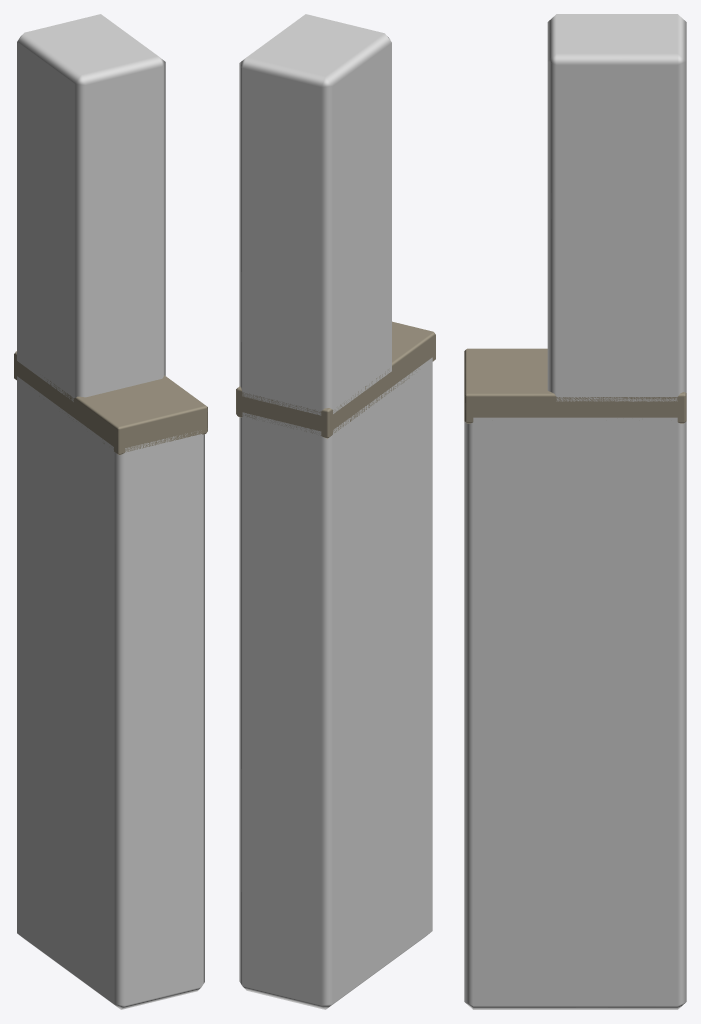
Rendered from stone-halls-buttress.631a0001.glb.
3 views of the same model, side by side, from view 1: azimuth 30°, elevation 25°; view 2: azimuth 150°, elevation 25°; view 3: azimuth 270°, elevation 25° (orthographic). The views are drawn at different scales.
Visible parts, largest first — view 1: body; view 2: body; view 3: body.
Part boxes in pixels (x1=…): body: x1=14, y1=14, x2=207, y2=1009; body: x1=236, y1=14, x2=435, y2=1009; body: x1=464, y1=14, x2=686, y2=1009.
Bounding box in the file's own units: 0.2 × 1.9 × 0.4.
